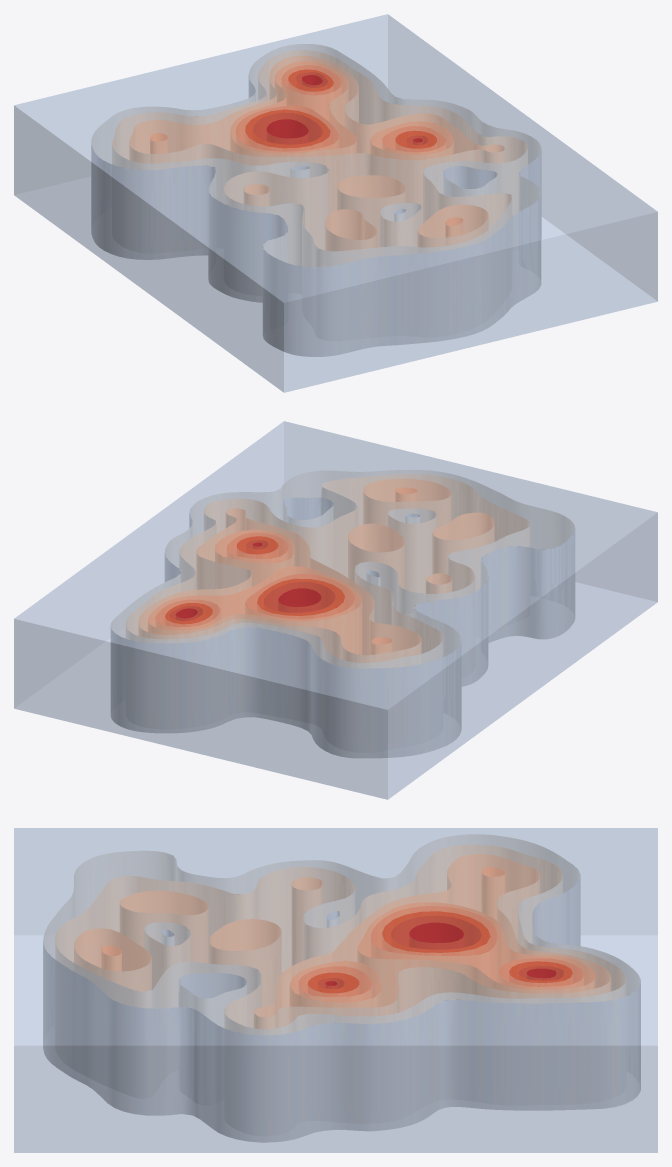
File: 2DEXTRUDE.fbx
3 renders of one model, top to bottom at view 1: azimuth 30°, elevation 25°; view 2: azimuth 150°, elevation 25°; view 3: azimuth 270°, elevation 25°, orthographic. The views are drawn at different scales.
Parts seen in each view (by area): view 1: 物件_28, 物件_12, 物件_27, 物件_26, 物件_19, 物件_17, 物件_11, 物件_18, 物件_16, 物件_1, 物件_24, 物件_22 (+6 smaller); view 2: 物件_28, 物件_12, 物件_27, 物件_26, 物件_19, 物件_11, 物件_16, 物件_17, 物件_18, 物件_1, 物件_22, 物件_24 (+6 smaller); view 3: 物件_28, 物件_12, 物件_27, 物件_26, 物件_19, 物件_18, 物件_17, 物件_11, 物件_24, 物件_1, 物件_16, 物件_13 (+9 smaller).
Boxes of the visible parts, <box> form: 物件_28: <box>14,14,657,392</box>; 物件_12: <box>91,44,541,356</box>; 物件_27: <box>112,50,527,266</box>; 物件_26: <box>129,55,504,223</box>; 物件_19: <box>230,61,356,157</box>; 物件_17: <box>337,175,405,247</box>; 物件_11: <box>417,204,488,247</box>; 物件_18: <box>325,209,377,251</box>; 物件_16: <box>379,203,421,246</box>; 物件_1: <box>245,109,330,148</box>; 物件_24: <box>236,105,338,152</box>; 物件_22: <box>370,121,453,159</box>; 物件_28: <box>14,421,657,799</box>; 物件_12: <box>110,470,575,758</box>; 物件_27: <box>126,474,529,668</box>; 物件_26: <box>138,508,421,662</box>; 物件_19: <box>148,566,362,654</box>; 物件_11: <box>363,478,451,527</box>; 物件_16: <box>387,508,436,593</box>; 物件_17: <box>348,523,404,589</box>; 物件_18: <box>432,512,494,574</box>; 物件_1: <box>257,578,344,615</box>; 物件_22: <box>215,529,294,583</box>; 物件_24: <box>245,573,354,620</box>; 物件_28: <box>14,828,657,1152</box>; 物件_12: <box>43,834,640,1142</box>; 物件_27: <box>55,844,626,1035</box>; 物件_26: <box>254,854,611,1029</box>; 物件_19: <box>357,902,595,1006</box>; 物件_18: <box>119,890,208,963</box>; 物件_17: <box>209,919,281,1006</box>; 物件_11: <box>74,928,151,991</box>; 物件_24: <box>370,906,497,980</box>; 物件_1: <box>382,911,490,952</box>; 物件_16: <box>144,922,190,989</box>; 物件_13: <box>178,973,246,1026</box>.
Size of the model in its own units: 5707 by 7140 by 1311.
